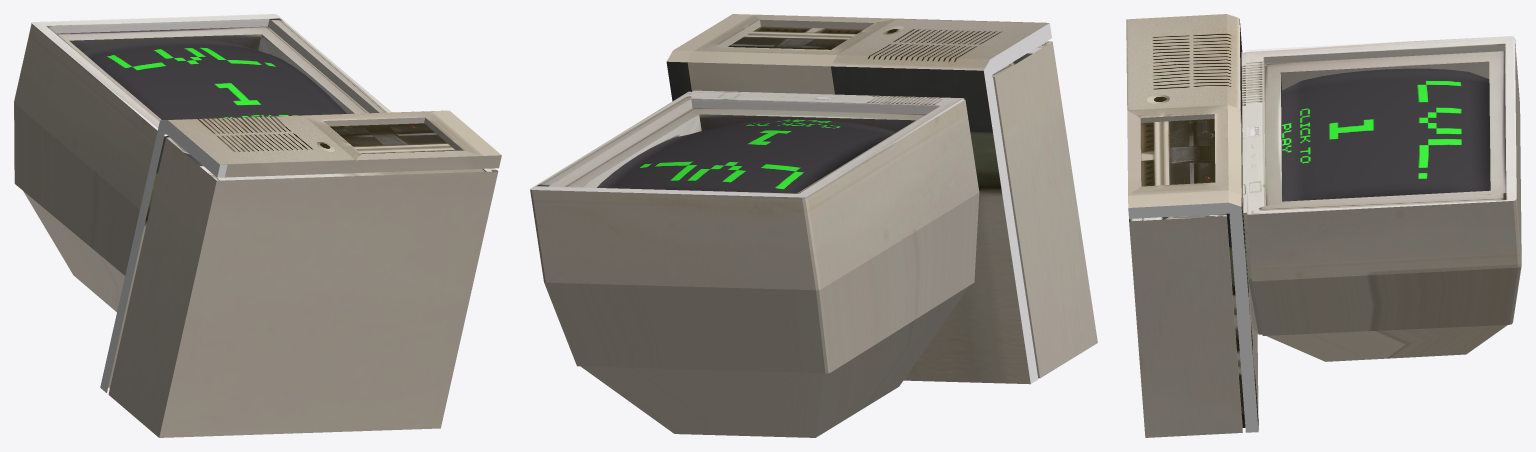
Rendered from level-1.fbx.
3 renders of one model, left to right at view 1: azimuth 30°, elevation 25°; view 2: azimuth 150°, elevation 25°; view 3: azimuth 270°, elevation 25°, orthographic. The views are drawn at different scales.
Visible parts, largest first — view 1: level-1 pc; view 2: level-1 pc; view 3: level-1 pc.
Boxes of the visible parts, left/top/right/bottom form: level-1 pc: left=14, top=14, right=501, bottom=437; level-1 pc: left=530, top=14, right=1097, bottom=437; level-1 pc: left=1126, top=14, right=1521, bottom=437.
Size of the model in its own units: 134 by 127 by 143.
Materials: 2 (2 with a texture image).
